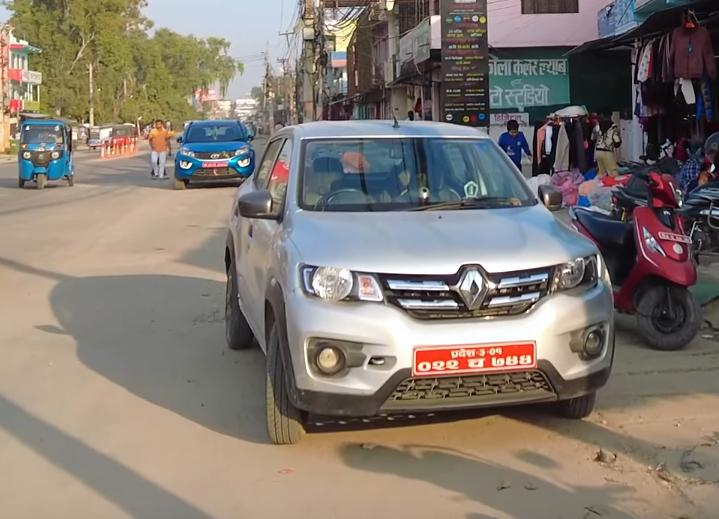auto_rickshaw: (14, 114, 79, 195)
car: (224, 119, 621, 451), (170, 115, 255, 188)
scooter: (574, 169, 698, 353)
